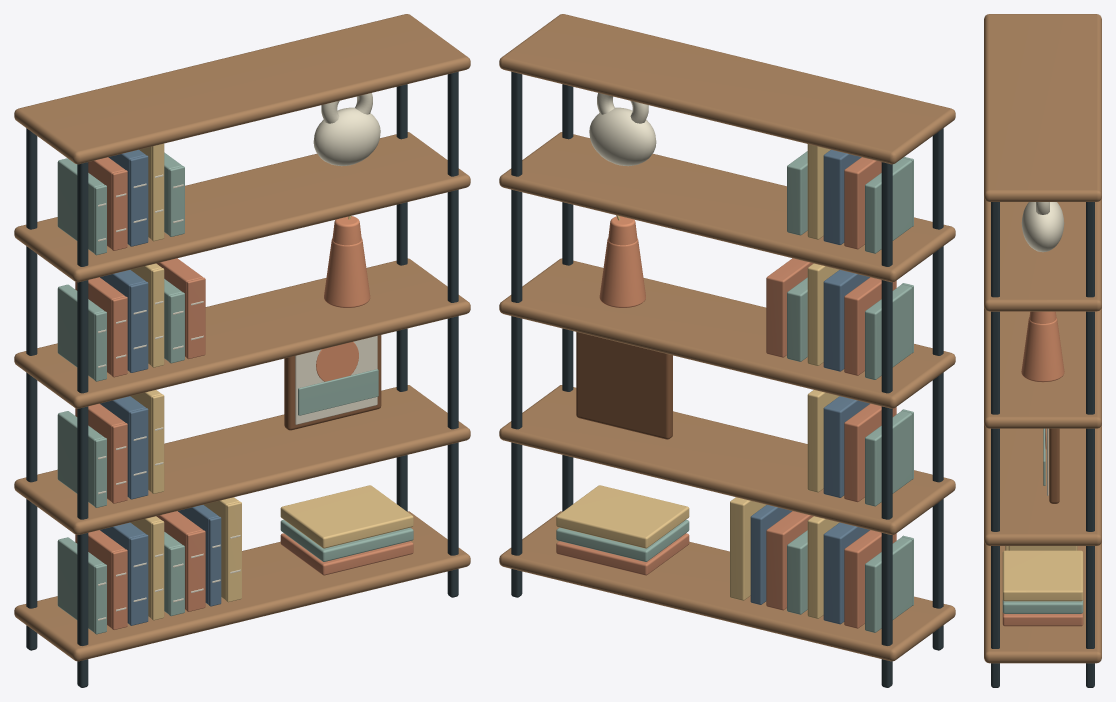
Rendered from bookshelf.glb.
3 views of the same model, side by side, from view 1: azimuth 30°, elevation 25°; view 2: azimuth 150°, elevation 25°; view 3: azimuth 270°, elevation 25° (orthographic). The views are drawn at different scales.
Visible parts, largest first — view 1: BookshelfRoot.Oak, BookshelfRoot.BookSage, BookshelfRoot.Graphite, BookshelfRoot.BookRust, BookshelfRoot.BookGold, BookshelfRoot.BookNavy, BookshelfRoot.Ceramic, BookshelfRoot.Paper, BookshelfRoot.PotIvory, BookshelfRoot.OakEdge; view 2: BookshelfRoot.Oak, BookshelfRoot.Graphite, BookshelfRoot.BookSage, BookshelfRoot.BookRust, BookshelfRoot.BookGold, BookshelfRoot.BookNavy, BookshelfRoot.OakEdge, BookshelfRoot.PotIvory, BookshelfRoot.Ceramic; view 3: BookshelfRoot.Oak, BookshelfRoot.Graphite, BookshelfRoot.BookGold, BookshelfRoot.Ceramic, BookshelfRoot.PotIvory, BookshelfRoot.BookSage, BookshelfRoot.BookRust, BookshelfRoot.OakEdge.
Part boxes in pixels (left/top/right/bottom): BookshelfRoot.Oak: left=14, top=14, right=470, bottom=661; BookshelfRoot.BookSage: left=57, top=152, right=413, bottom=634; BookshelfRoot.Graphite: left=26, top=71, right=458, bottom=687; BookshelfRoot.BookRust: left=75, top=157, right=413, bottom=629; BookshelfRoot.BookGold: left=130, top=143, right=413, bottom=620; BookshelfRoot.BookNavy: left=100, top=149, right=221, bottom=625; BookshelfRoot.Ceramic: left=316, top=216, right=370, bottom=381; BookshelfRoot.Paper: left=98, top=174, right=377, bottom=620; BookshelfRoot.PotIvory: left=313, top=93, right=380, bottom=166; BookshelfRoot.OakEdge: left=284, top=335, right=381, bottom=430; BookshelfRoot.Oak: left=499, top=14, right=955, bottom=661; BookshelfRoot.Graphite: left=511, top=71, right=943, bottom=687; BookshelfRoot.BookSage: left=556, top=151, right=913, bottom=632; BookshelfRoot.BookRust: left=556, top=157, right=896, bottom=628; BookshelfRoot.BookGold: left=556, top=144, right=839, bottom=618; BookshelfRoot.BookNavy: left=750, top=149, right=869, bottom=624; BookshelfRoot.OakEdge: left=576, top=332, right=672, bottom=439; BookshelfRoot.PotIvory: left=589, top=93, right=656, bottom=166; BookshelfRoot.Ceramic: left=599, top=216, right=645, bottom=307; BookshelfRoot.Oak: left=984, top=14, right=1101, bottom=663; BookshelfRoot.Graphite: left=991, top=202, right=1094, bottom=687; BookshelfRoot.BookGold: left=1002, top=546, right=1083, bottom=601; BookshelfRoot.Ceramic: left=1021, top=311, right=1064, bottom=449; BookshelfRoot.PotIvory: left=1021, top=202, right=1064, bottom=252; BookshelfRoot.BookSage: left=1002, top=428, right=1083, bottom=613; BookshelfRoot.BookRust: left=1002, top=612, right=1083, bottom=626; BookshelfRoot.OakEdge: left=1049, top=428, right=1059, bottom=503.
Size of the model in its own units: 1.48 by 1.92 by 0.41.
